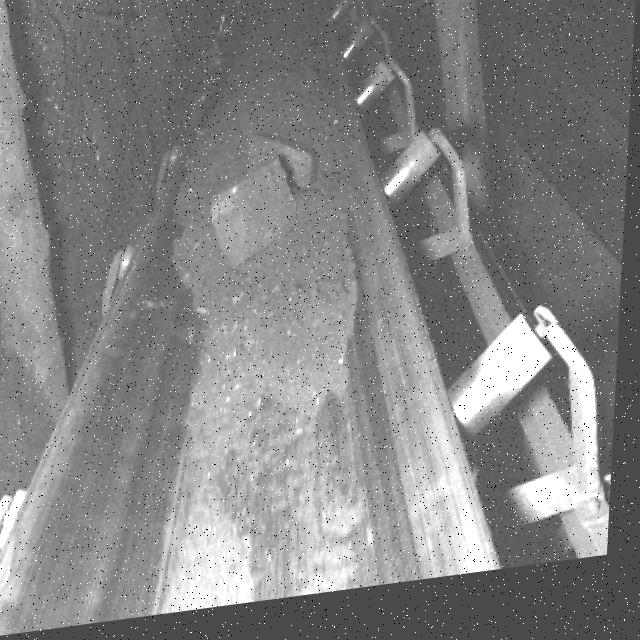large_sized_coal: (209, 161, 299, 273), (247, 134, 318, 200)
